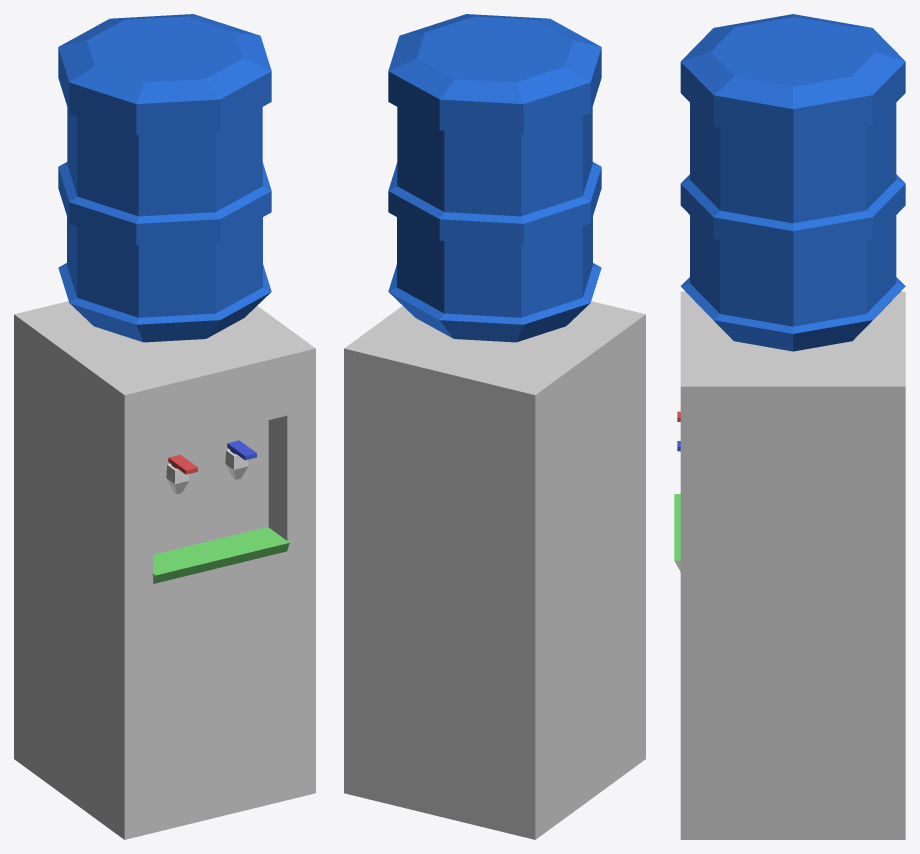
Rendered from dispenser.fbx.
3 renders of one model, left to right at view 1: azimuth 30°, elevation 25°; view 2: azimuth 150°, elevation 25°; view 3: azimuth 270°, elevation 25°, orthographic.
Parts seen in each view (by area): view 1: Cube; view 2: Cube; view 3: Cube.
Boxes of the visible parts, <box> form: Cube: <box>14,14,315,839</box>; Cube: <box>344,14,645,839</box>; Cube: <box>674,14,905,839</box>.
Size of the model in its own units: 200 by 726 by 206.
